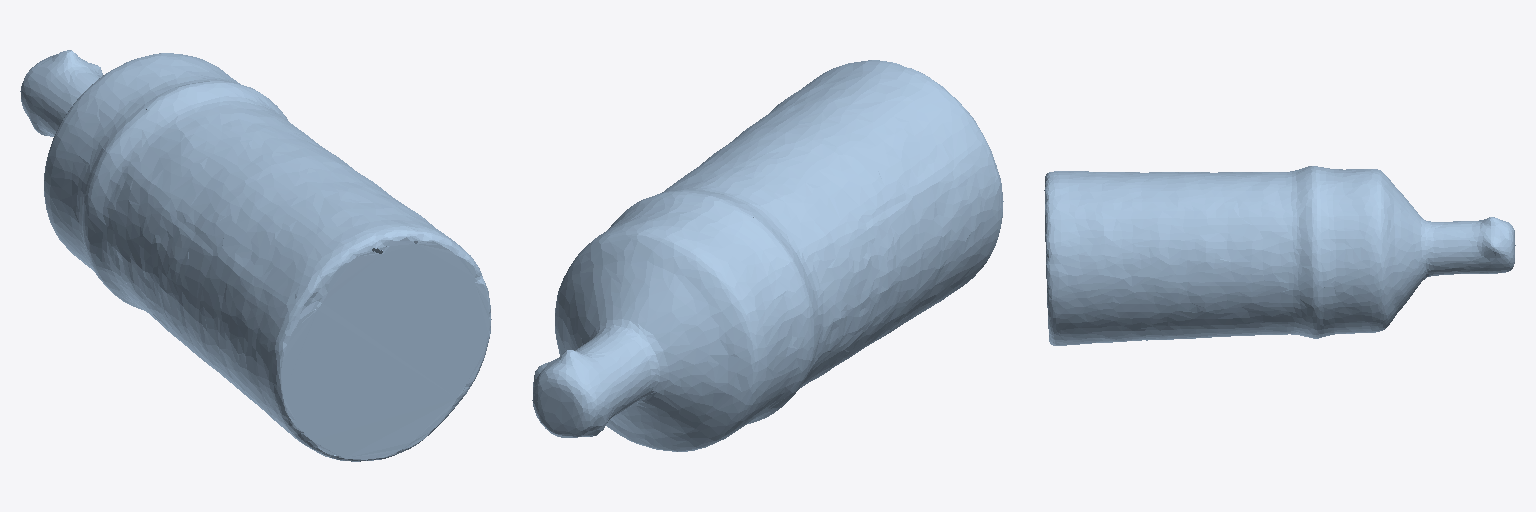
robot.urdf — SauceBottle.urdf:
<?xml version="1.0" ?>
<robot name="SauceBottle.urdf">
  <dynamics damping="0.5" friction="0.9"/>
  <link name="baseLink">
    <contact>
      <lateral_friction value="0.9"/>
      <rolling_friction value="0.5"/>
      <stiffness value="30000"/>
      <damping value="1000"/>
    </contact>
    <visual>
      <origin rpy="0 0 0" xyz="0 0 0"/>
      <geometry>
        <mesh filename="objects/SauceBottle/SauceBottle.obj" scale="1.0 1.0 1.0"/>
      </geometry>
      <material name="mat">
        <color rgba="0.7 0.8 0.9 1"/>
      </material>
    </visual>
    <collision>
      <origin rpy="0 0 0" xyz="0 0 0"/>
      <geometry>
        <mesh filename="objects/SauceBottle/SauceBottle.obj" scale="1.0 1.0 1.0"/>
      </geometry>
    </collision>
  </link>
</robot>

--- What the picture shows (computed from the rendered views, not written in the file) ---
The picture shows the robot from 3 angles, left to right: view 1: azimuth 30°, elevation 25°; view 2: azimuth 150°, elevation 25°; view 3: azimuth 270°, elevation 25°; orthographic projection.
Model SauceBottle.urdf with 1 links and 0 joints (none), rooted at baseLink, posed every joint at zero.
Links seen in each view (by area): view 1: baseLink; view 2: baseLink; view 3: baseLink.
Link boxes in pixels (bbox=[...]): baseLink: bbox=[20, 50, 491, 461]; baseLink: bbox=[532, 60, 1003, 451]; baseLink: bbox=[1044, 166, 1515, 345].
Bounding box of the posed robot: 0.0604 × 0.1631 × 0.0629 m (x, y, z).
1 mesh visuals loaded from 1 distinct referenced files (1 OBJ).
